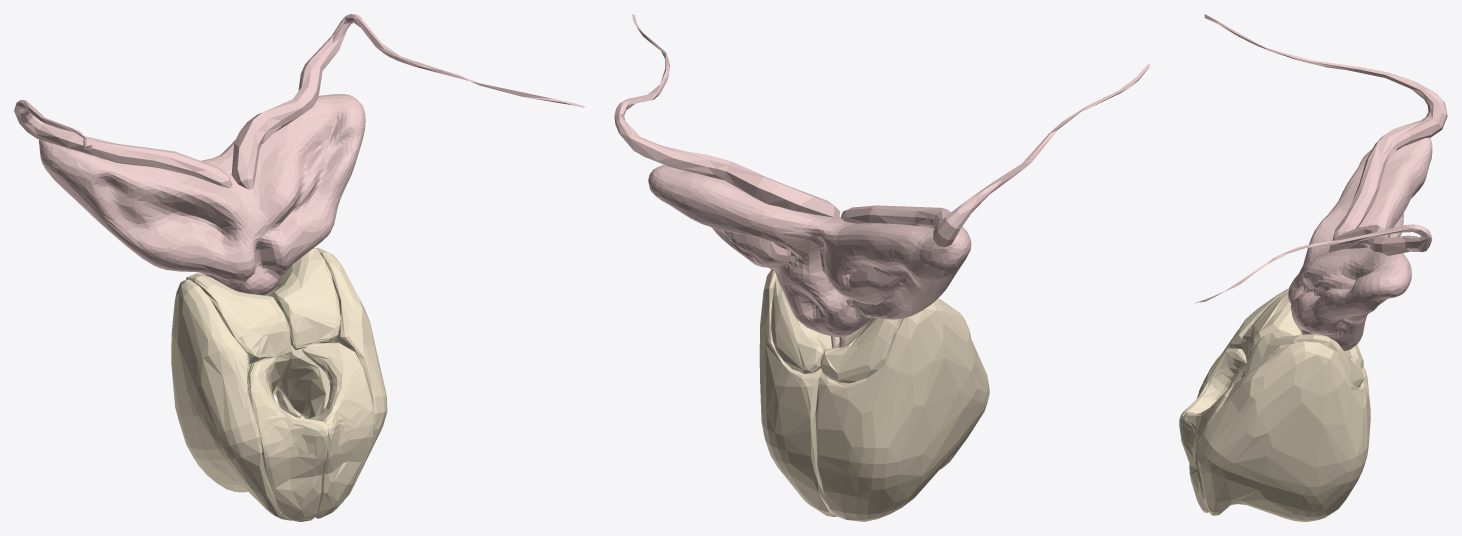
The model's file is prostate.glb.
3 views of the same model, side by side, from view 1: azimuth 30°, elevation 25°; view 2: azimuth 150°, elevation 25°; view 3: azimuth 270°, elevation 25° (orthographic). The views are drawn at different scales.
Parts seen in each view (by area): view 1: VH_M_seminal_vesicle, VH_M_peripheral_zone_of_prostate_R, VH_M_anterior_fibromuscular_stroma_R, VH_M_anterior_fibromuscular_stroma_L, VH_M_vas_deferens_R, VH_M_vas_deferens_L, VH_M_base_of_prostate, VH_M_peripheral_zone_of_prostate_L, VH_M_central_zone_of_prostate_L, VH_M_central_zone_of_prostate_R, VH_M_transition_zone__of_prostate_L; view 2: VH_M_peripheral_zone_of_prostate_R, VH_M_seminal_vesicle, VH_M_peripheral_zone_of_prostate_L, VH_M_vas_deferens_R, VH_M_vas_deferens_L, VH_M_central_zone_of_prostate_R, VH_M_central_zone_of_prostate_L; view 3: VH_M_peripheral_zone_of_prostate_L, VH_M_seminal_vesicle, VH_M_vas_deferens_L, VH_M_vas_deferens_R, VH_M_central_zone_of_prostate_L, VH_M_central_zone_of_prostate_R, VH_M_anterior_fibromuscular_stroma_L, VH_M_base_of_prostate, VH_M_anterior_fibromuscular_stroma_R, VH_M_peripheral_zone_of_prostate_R.
Boxes of the visible parts, <box> form: VH_M_seminal_vesicle: <box>39,94,365,295</box>; VH_M_peripheral_zone_of_prostate_R: <box>171,279,292,520</box>; VH_M_anterior_fibromuscular_stroma_R: <box>247,357,328,521</box>; VH_M_anterior_fibromuscular_stroma_L: <box>302,342,374,518</box>; VH_M_vas_deferens_R: <box>231,14,585,189</box>; VH_M_vas_deferens_L: <box>14,100,232,188</box>; VH_M_base_of_prostate: <box>235,317,369,454</box>; VH_M_peripheral_zone_of_prostate_L: <box>272,247,387,498</box>; VH_M_central_zone_of_prostate_L: <box>265,248,340,386</box>; VH_M_central_zone_of_prostate_R: <box>186,273,291,364</box>; VH_M_transition_zone__of_prostate_L: <box>277,345,329,418</box>; VH_M_peripheral_zone_of_prostate_R: <box>815,298,989,521</box>; VH_M_seminal_vesicle: <box>648,165,971,336</box>; VH_M_peripheral_zone_of_prostate_L: <box>759,269,836,516</box>; VH_M_vas_deferens_R: <box>614,14,840,217</box>; VH_M_vas_deferens_L: <box>840,63,1150,247</box>; VH_M_central_zone_of_prostate_R: <box>820,317,901,383</box>; VH_M_central_zone_of_prostate_L: <box>771,277,847,373</box>; VH_M_peripheral_zone_of_prostate_L: <box>1197,341,1370,521</box>; VH_M_seminal_vesicle: <box>1288,137,1432,351</box>; VH_M_vas_deferens_L: <box>1204,14,1447,239</box>; VH_M_vas_deferens_R: <box>1195,224,1432,303</box>; VH_M_central_zone_of_prostate_L: <box>1241,331,1364,387</box>; VH_M_central_zone_of_prostate_R: <box>1240,291,1363,369</box>; VH_M_anterior_fibromuscular_stroma_L: <box>1180,378,1240,512</box>; VH_M_base_of_prostate: <box>1180,324,1253,446</box>; VH_M_anterior_fibromuscular_stroma_R: <box>1179,348,1246,443</box>; VH_M_peripheral_zone_of_prostate_R: <box>1199,288,1369,402</box>.
Bounding box in the file's own units: 0.083 × 0.0706 × 0.0428.
